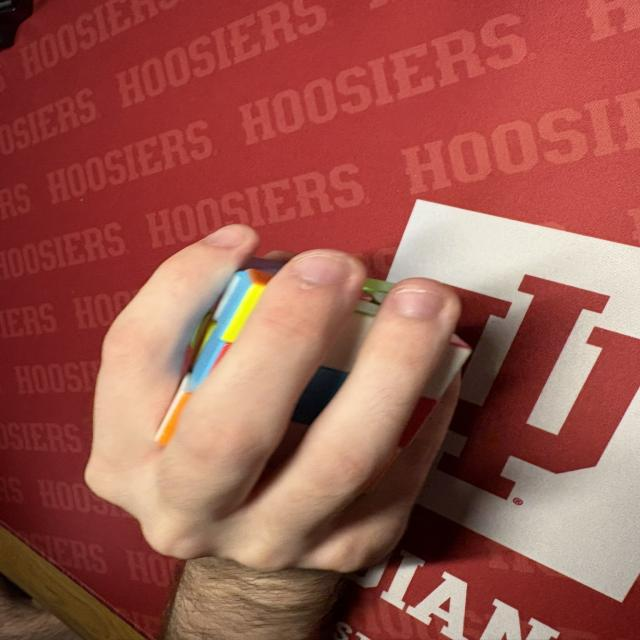Rubiks Cube: (259, 277, 397, 486), (156, 256, 287, 447), (361, 334, 472, 497)
